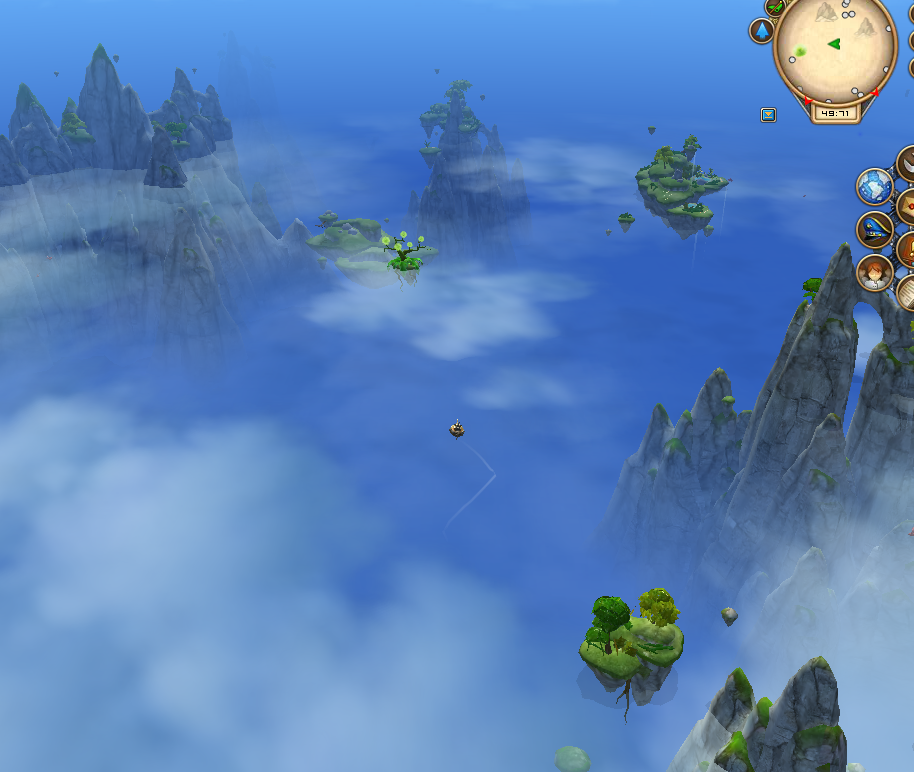dandelion-full: (376, 227, 433, 281)
